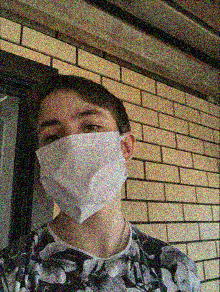with_mask: (35, 105, 130, 224)
